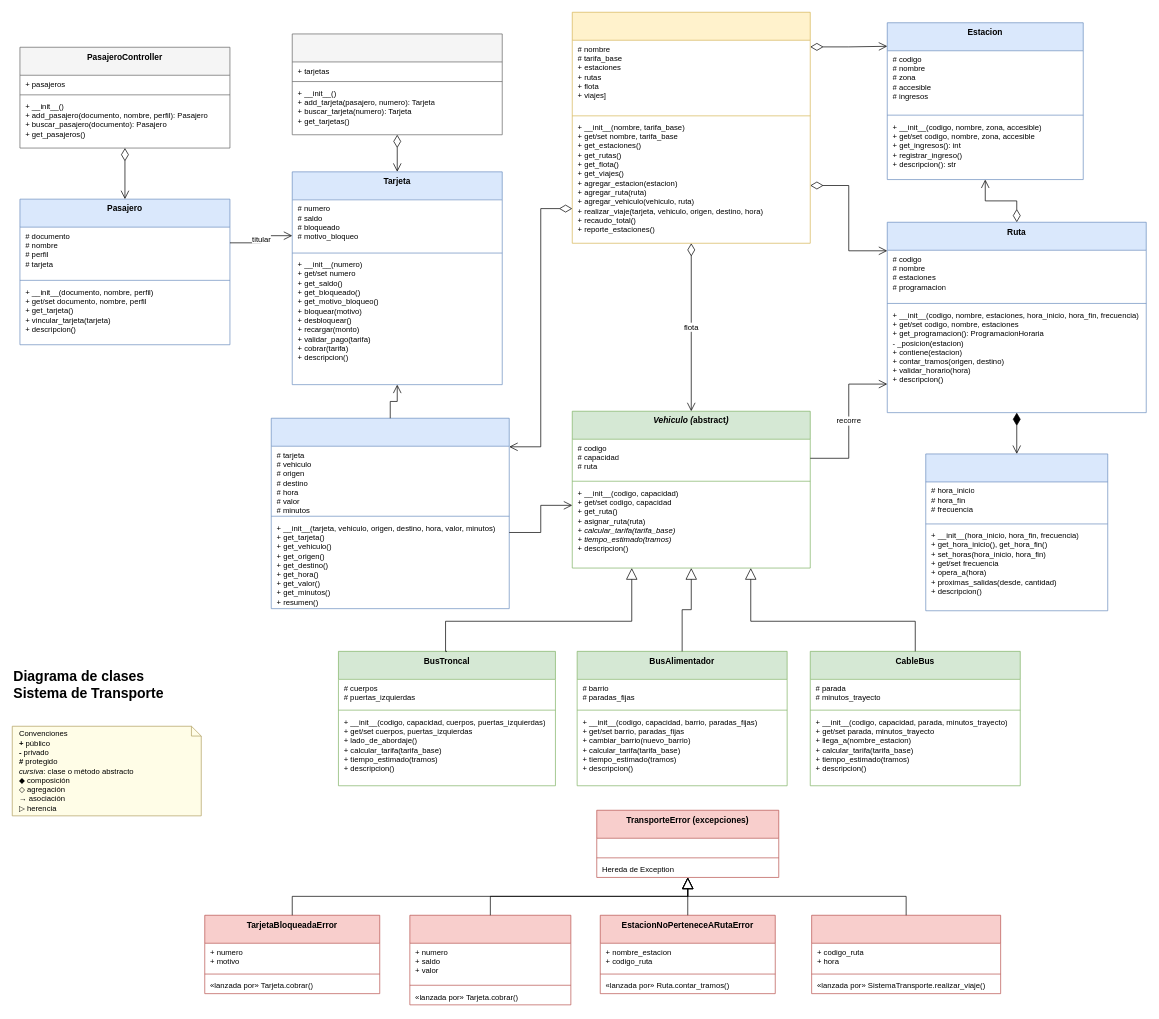
Image size: 1159x1019. Some labels were removed from this diagram. The shapes that lost their labels are listed below. From the top down, each one's box as (x1, y1, x2, y2) in pixels, then its label:
(292, 33, 502, 135): TarjetaController
(572, 12, 810, 243): SistemaTransporte
(271, 418, 509, 609): Viaje
(925, 453, 1108, 611): ProgramacionHoraria
(409, 915, 571, 1005): SaldoInsuficienteError
(811, 915, 1001, 994): FueraDeHorarioError
